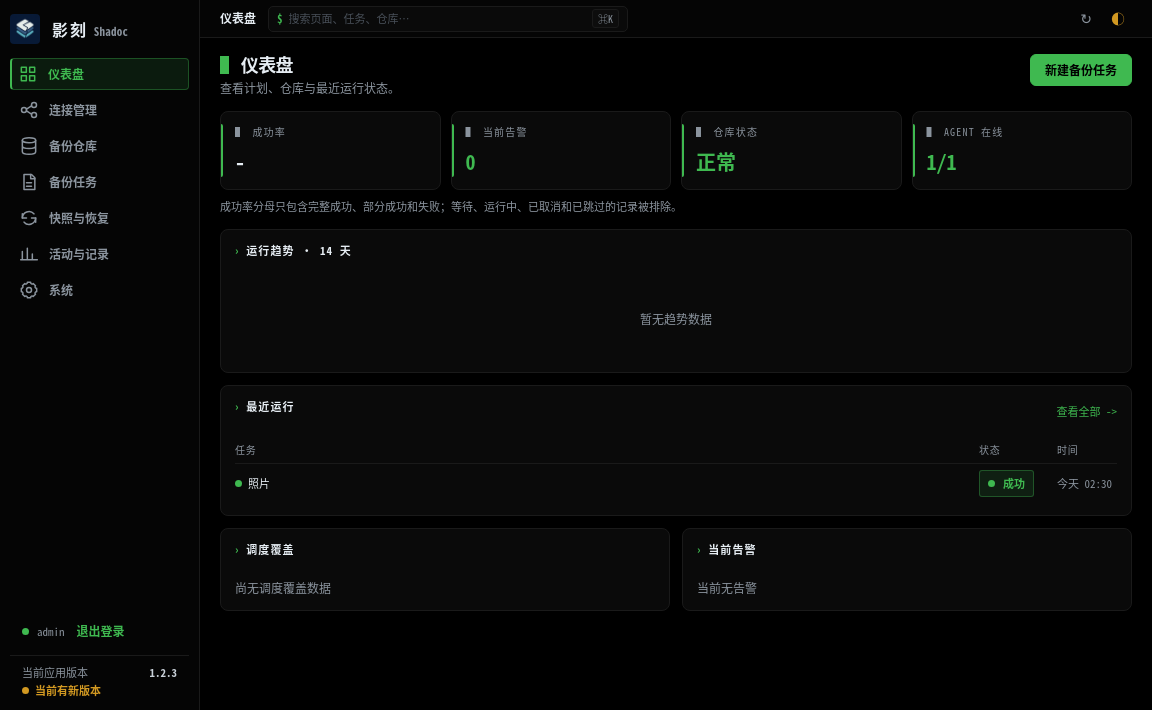
restic-control administration › keeps a failed Agent upgrade diagnostic visible when the staged artifact is stale
The image size is (1152, 710).
expect the heading "仪表盘" is shown: met, box [241,51,293,77]
Click the button "连接管理".
click(100, 110)  # box [10,94,189,126]
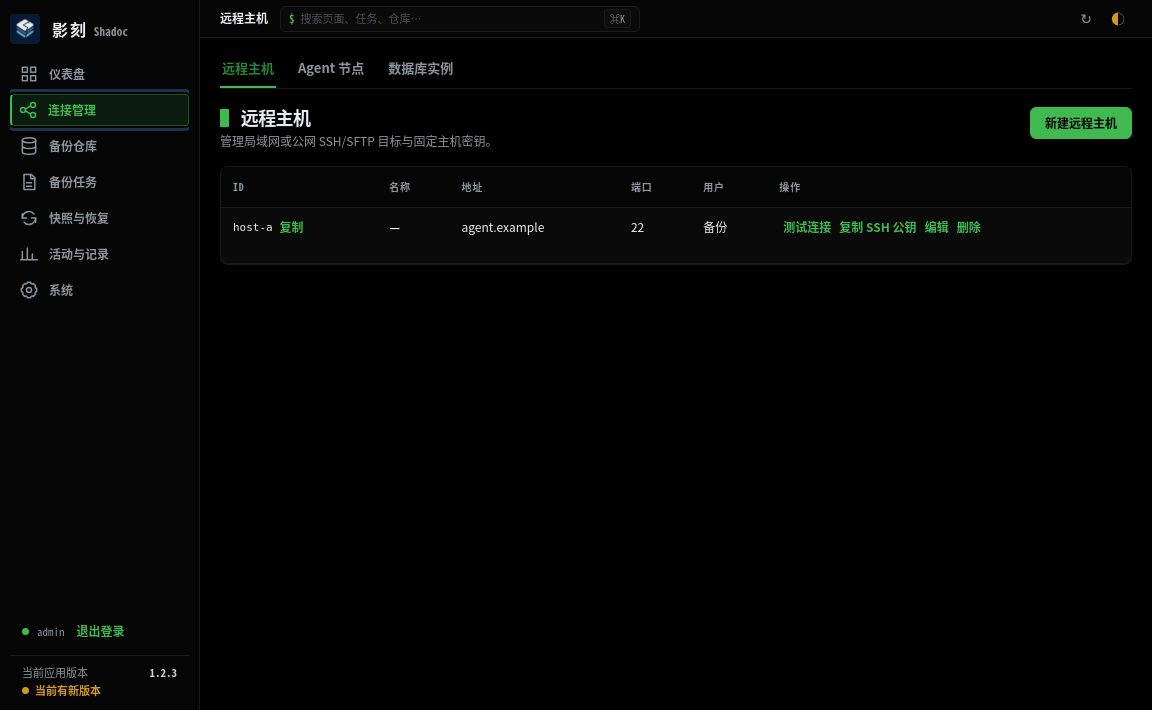
Click the tab "Agent 节点".
click(331, 69)  # box [296,50,366,88]
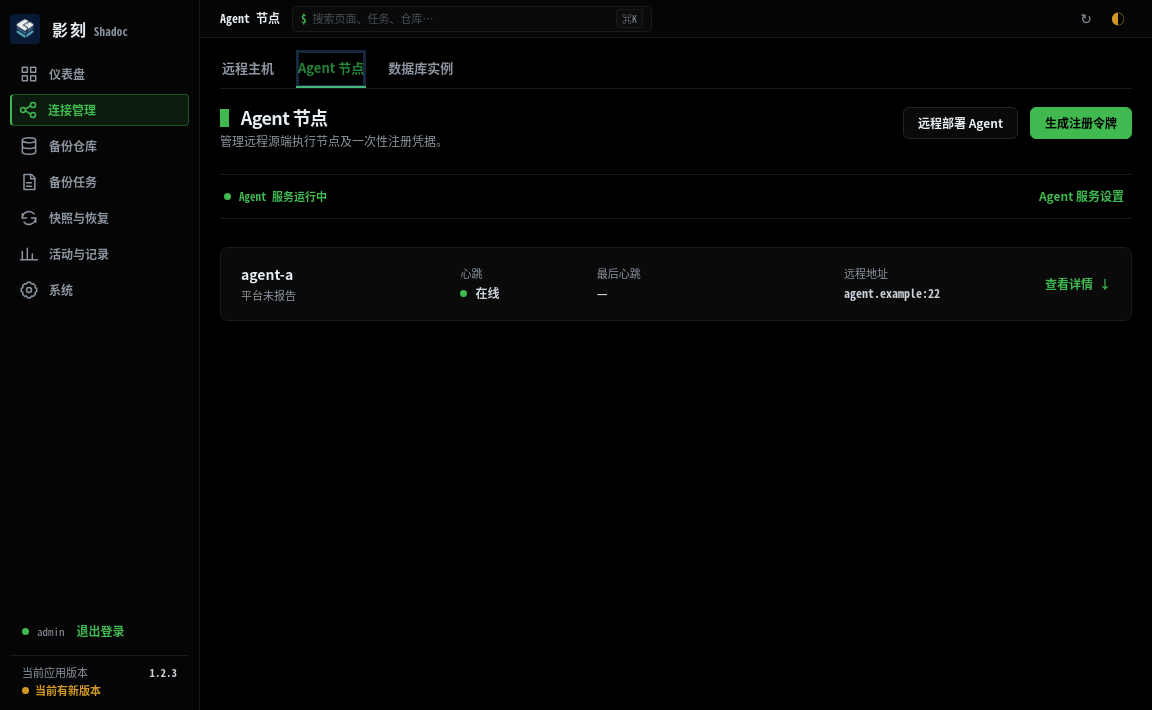
Click the button with aria-label "agent-a 查看详情".
click(267, 274)  # box [221,248,1131,320]
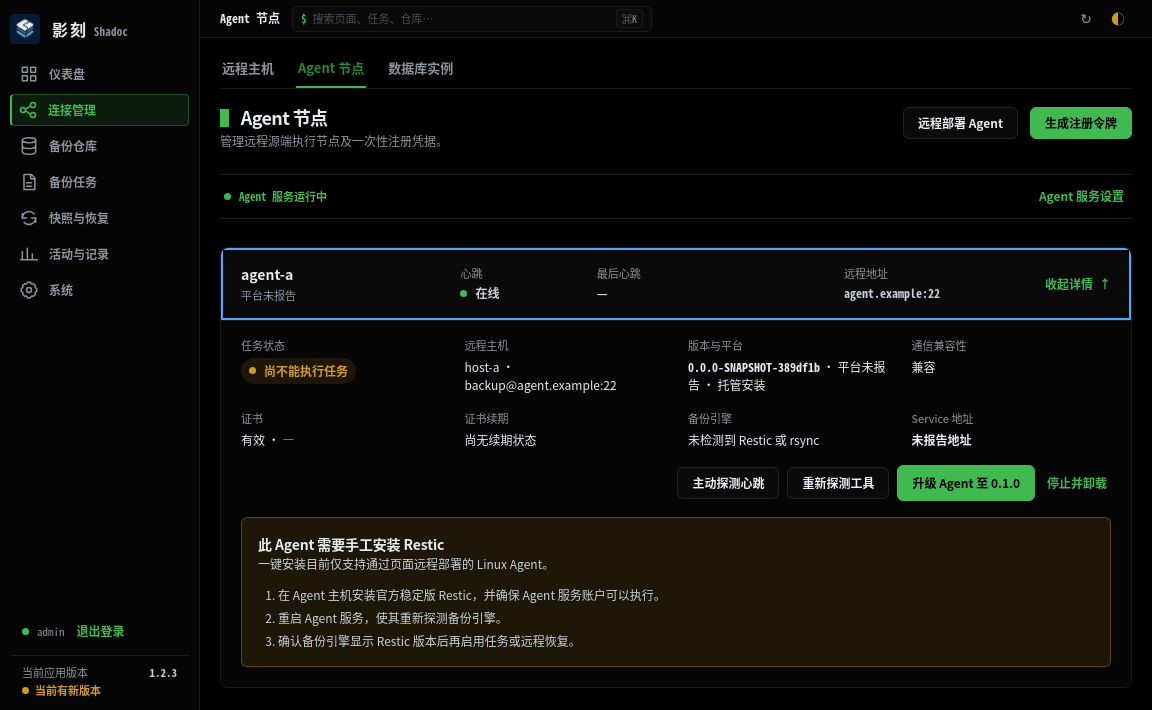
Click the button "升级 Agent 至 0.1.0".
click(966, 483)  # box [897,465,1035,501]
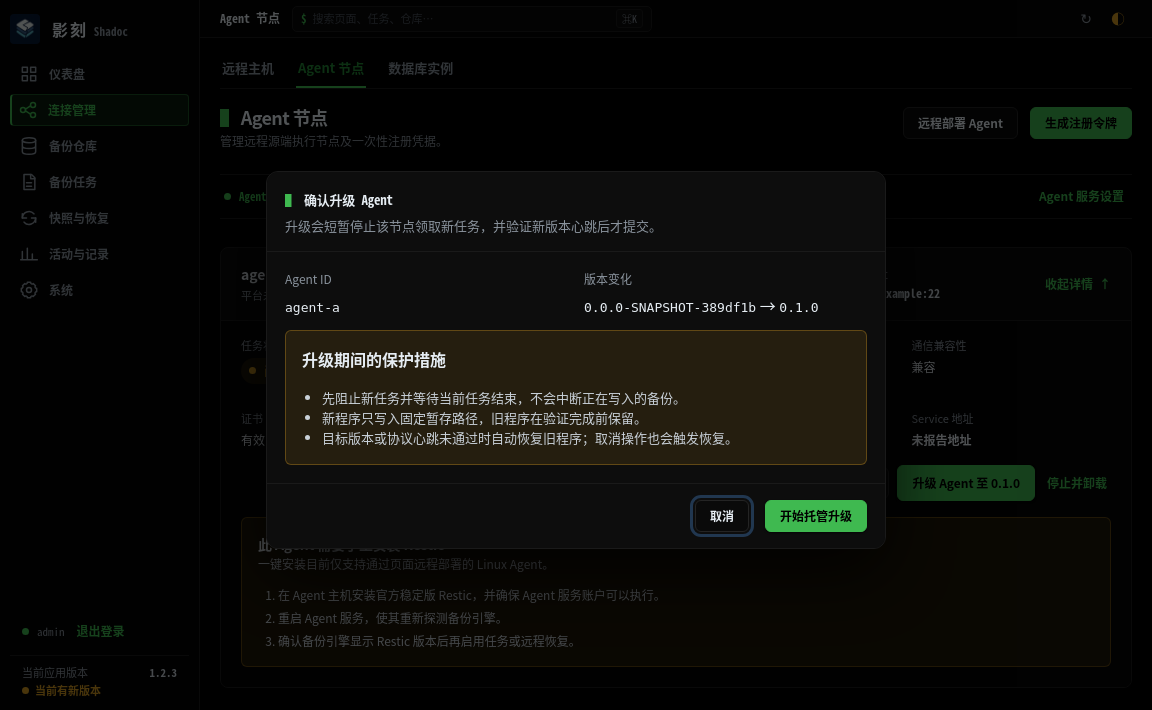
Click the button "开始托管升级".
click(816, 516)  # box [765,500,867,532]
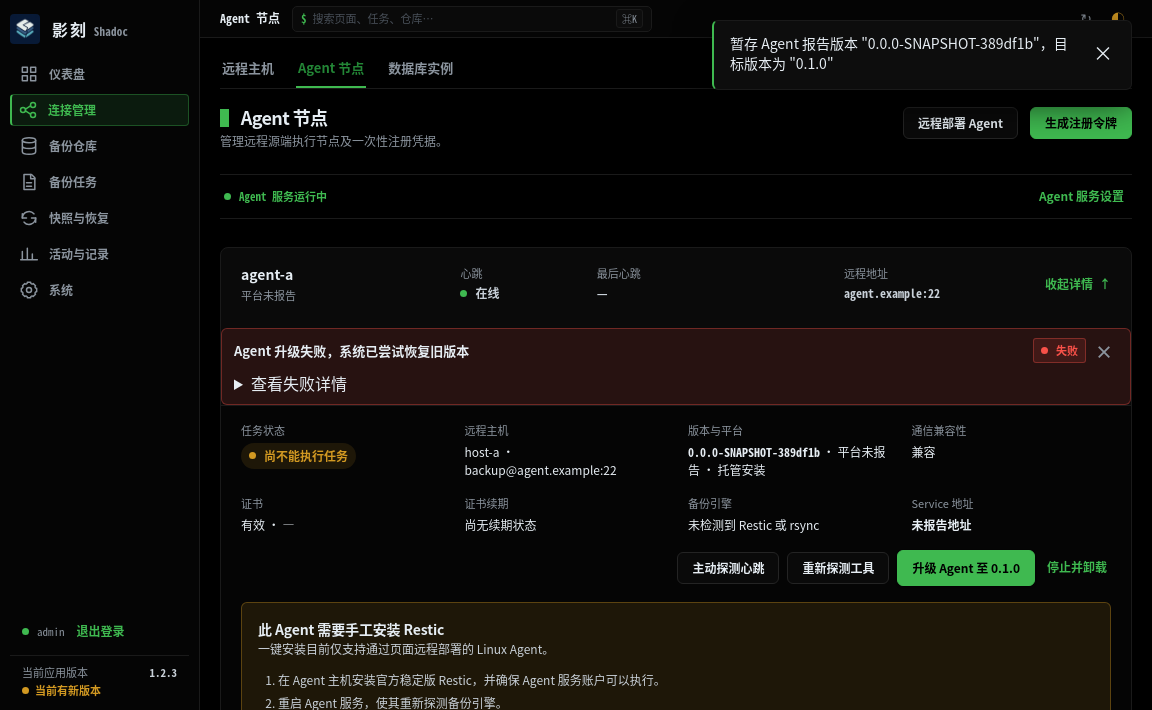
expect the heading "查看失败详情" is shown: met
Click the heading "查看失败详情".
click(299, 383)  # box [251,371,347,395]
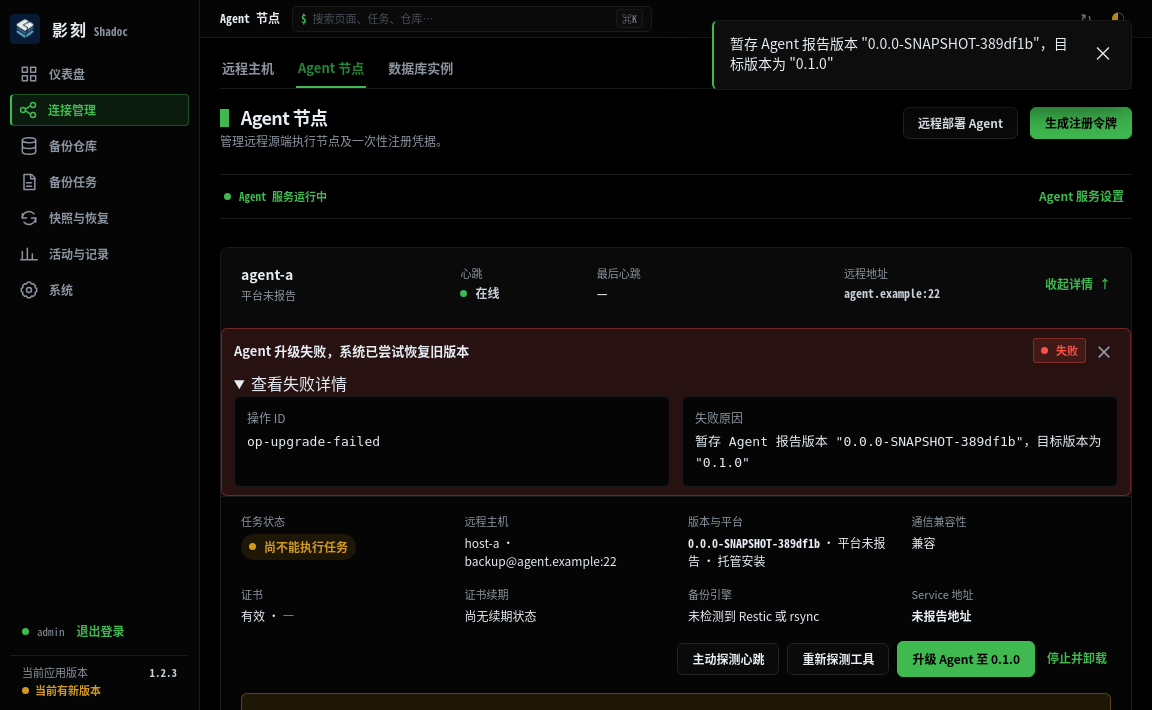
expect the text "暂存 Agent 报告版本 \"0.0.0-SNAPSHOT-389df1b\"，目标版本为 \"0.1.0\"" is shown: met, box [695,434,1102,470]
